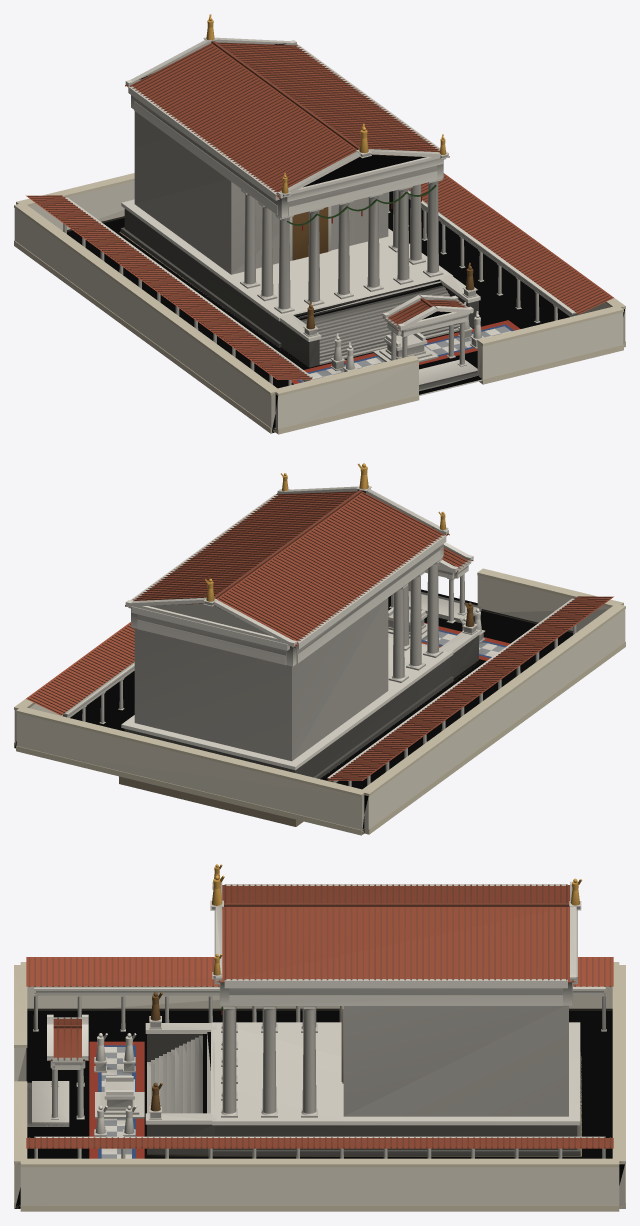
The model's file is rome_divus_augustus.glb.
3 views of the same model, one above another, from view 1: azimuth 30°, elevation 25°; view 2: azimuth 150°, elevation 25°; view 3: azimuth 270°, elevation 25° (orthographic). The views are drawn at different scales.
Visible parts, largest first — view 1: rome_divus_augustus; view 2: rome_divus_augustus; view 3: rome_divus_augustus.
Boxes of the visible parts, <box> form: rome_divus_augustus: <box>14,14,625,434</box>; rome_divus_augustus: <box>14,463,625,835</box>; rome_divus_augustus: <box>14,864,625,1211</box>.
Size of the model in its own units: 50.2 by 30.85 by 64.2.
